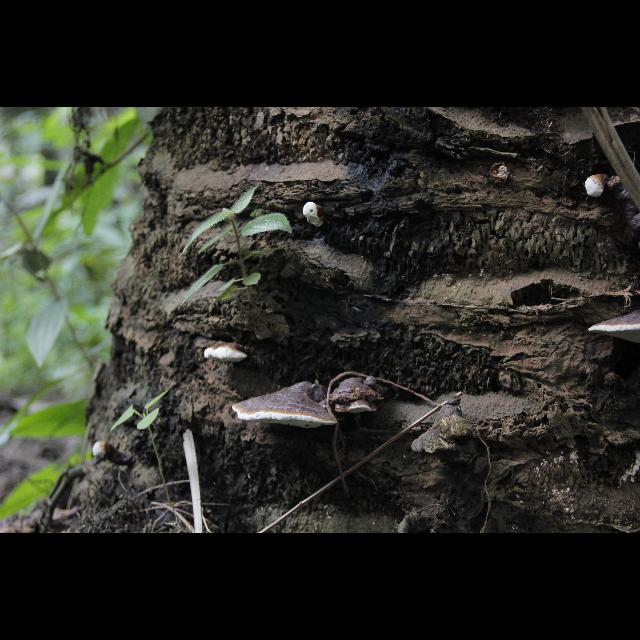ganoderma: (233, 382, 340, 430), (612, 176, 640, 253), (330, 378, 387, 415), (589, 310, 640, 345), (205, 344, 249, 365)
primordium: (586, 175, 611, 199), (303, 202, 325, 228), (93, 441, 113, 461)
